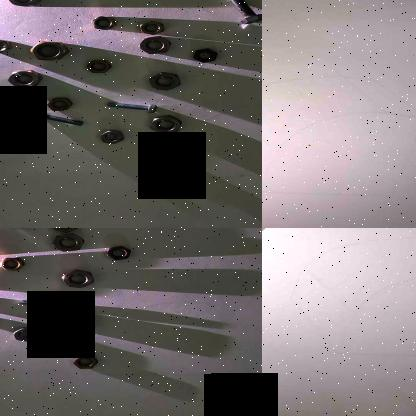Bolts: (14, 292, 72, 312), (104, 98, 160, 114), (34, 110, 88, 126), (229, 0, 262, 24)
NUTS: (29, 39, 69, 61), (58, 268, 102, 288), (146, 114, 188, 134), (62, 312, 99, 333), (146, 70, 184, 90), (66, 352, 102, 372), (6, 69, 45, 87), (136, 36, 171, 56), (51, 234, 84, 252), (135, 20, 170, 35), (12, 326, 38, 346), (97, 128, 129, 144), (188, 46, 216, 64), (156, 156, 191, 170), (99, 246, 131, 260), (88, 58, 115, 74), (46, 96, 76, 110), (90, 15, 118, 30), (0, 37, 17, 55), (0, 256, 22, 268), (7, 0, 43, 6), (50, 228, 80, 232)
